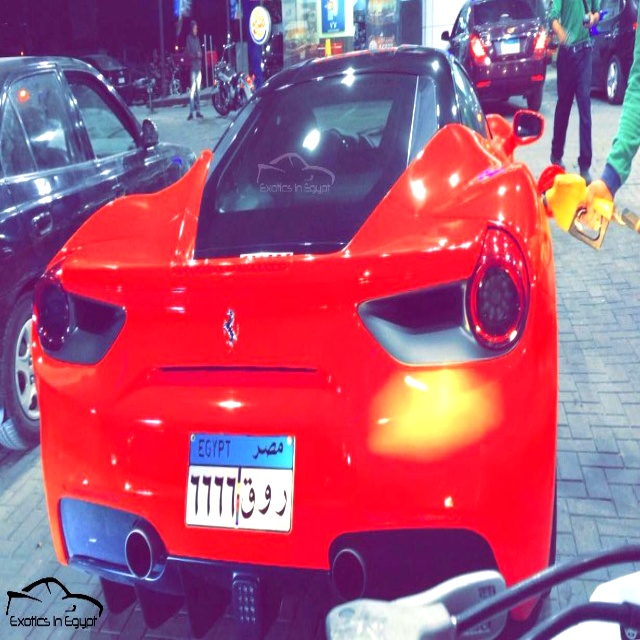License Plate: (183, 429, 297, 538)
